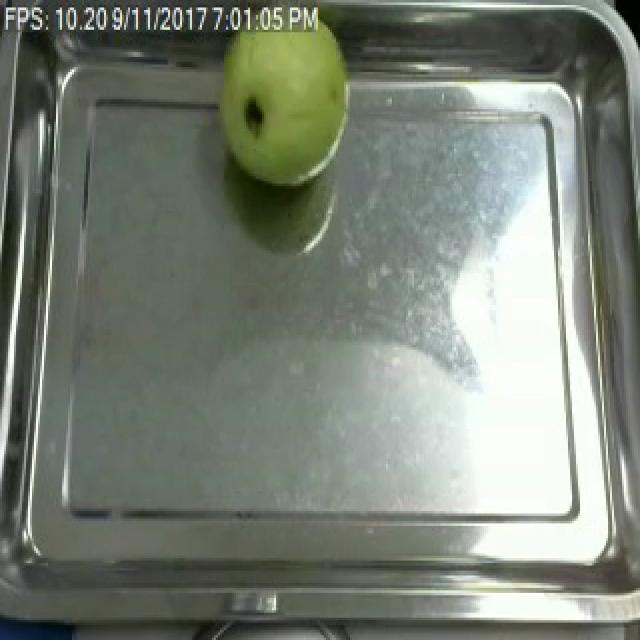Fruit: (206, 5, 362, 196)
